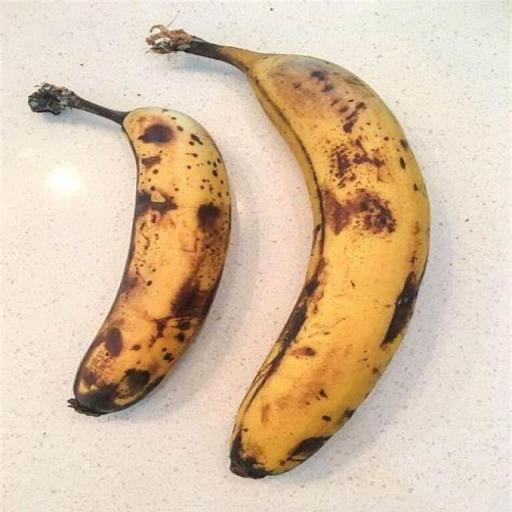fruit: (148, 27, 429, 477), (29, 84, 230, 414)
